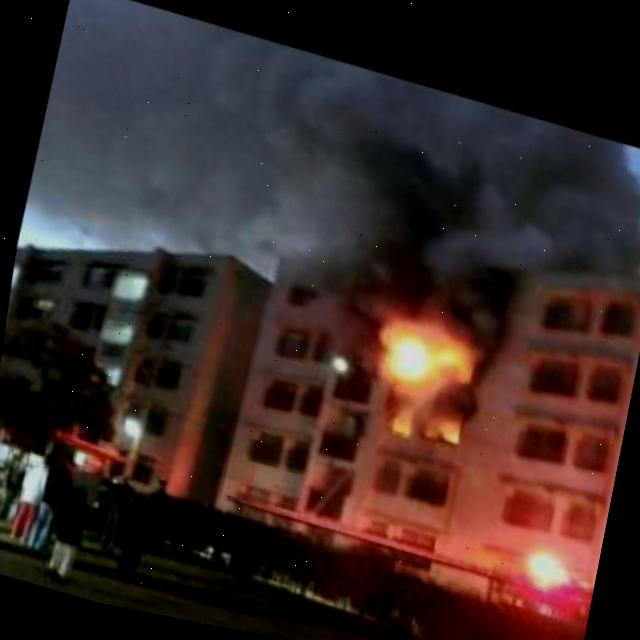fire: (356, 311, 507, 462)
